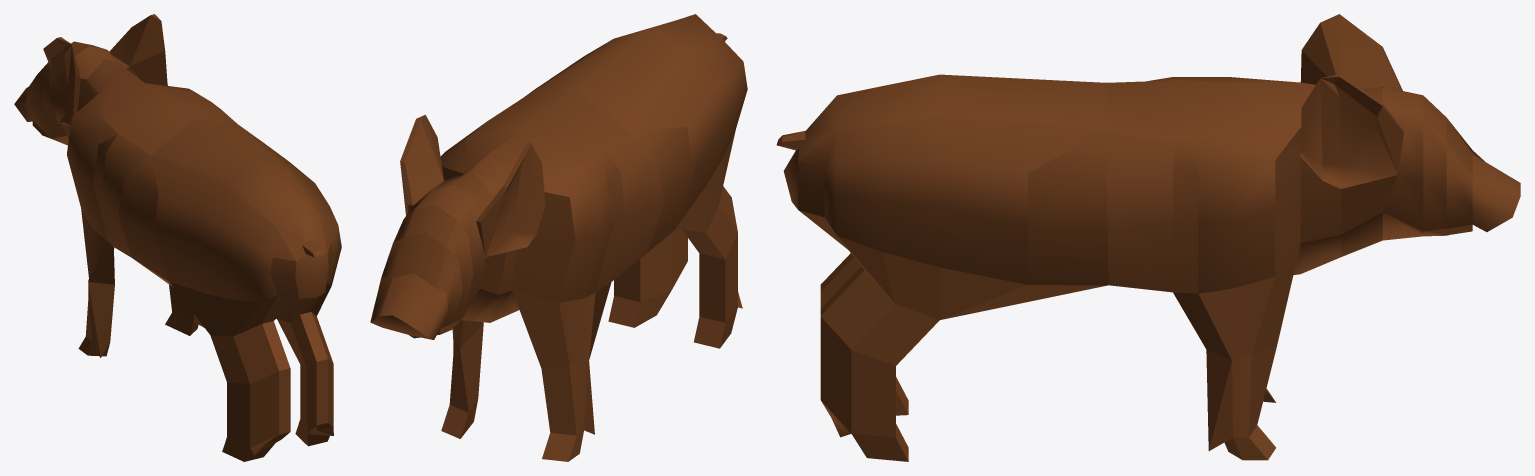
Rendered from MamaPig (2).fbx.
3 views of the same model, side by side, from view 1: azimuth 30°, elevation 25°; view 2: azimuth 150°, elevation 25°; view 3: azimuth 270°, elevation 25° (orthographic). The views are drawn at different scales.
Parts seen in each view (by area): view 1: Mama_Big; view 2: Mama_Big; view 3: Mama_Big.
Boxes of the visible parts, x1,y1,x2,y2 form: Mama_Big: (14, 14, 341, 461); Mama_Big: (370, 14, 747, 461); Mama_Big: (776, 14, 1520, 461).
Bounding box in the file's own units: 39.1 × 72.15 × 126.
